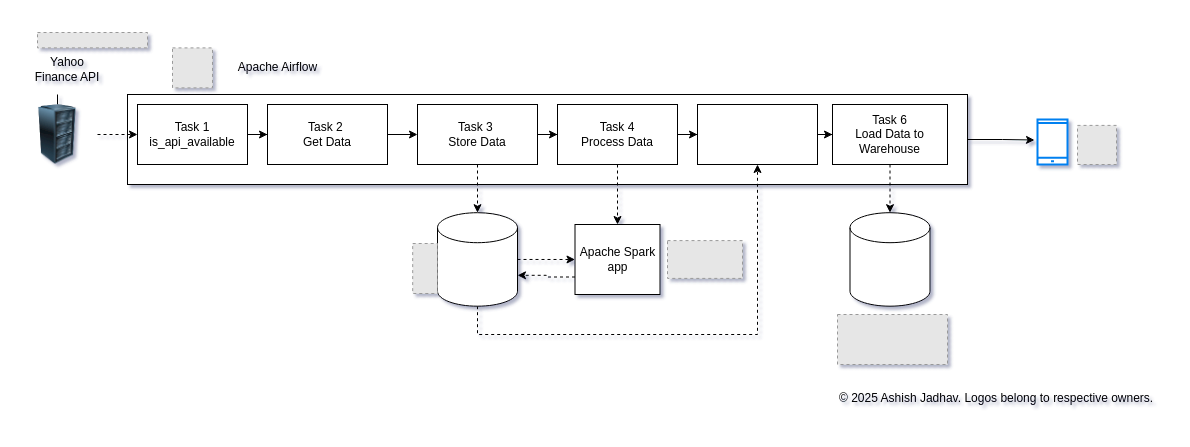
The diagram is 1190 pixels wide and 447 high, and some of its shapes have lost their labels. Grey dashed boxes stand in for pictures. Here are the shapes that lost their labels. From the top down, the box of each, then its label:
(696, 104, 818, 164): Task 5 Retrieve Processed Data
(436, 212, 518, 306): MinIO Database
(849, 212, 930, 306): Postgres Database
